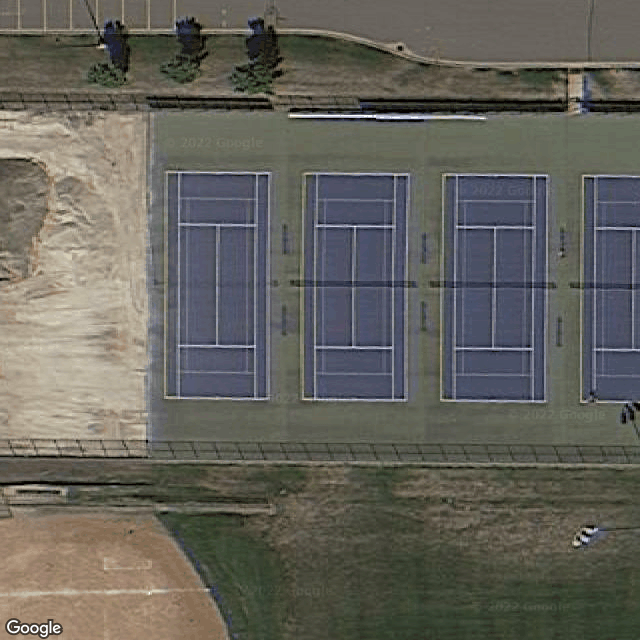Court: (162, 170, 272, 402), (300, 171, 410, 403), (439, 172, 548, 403), (580, 173, 639, 406)
